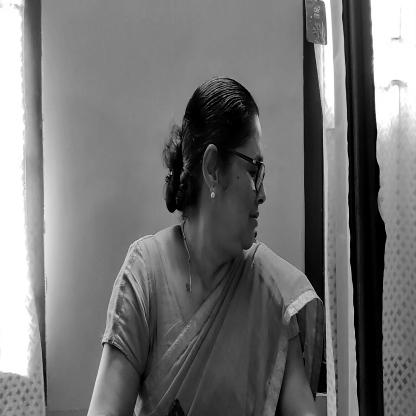Distracted: (164, 66, 268, 265)
